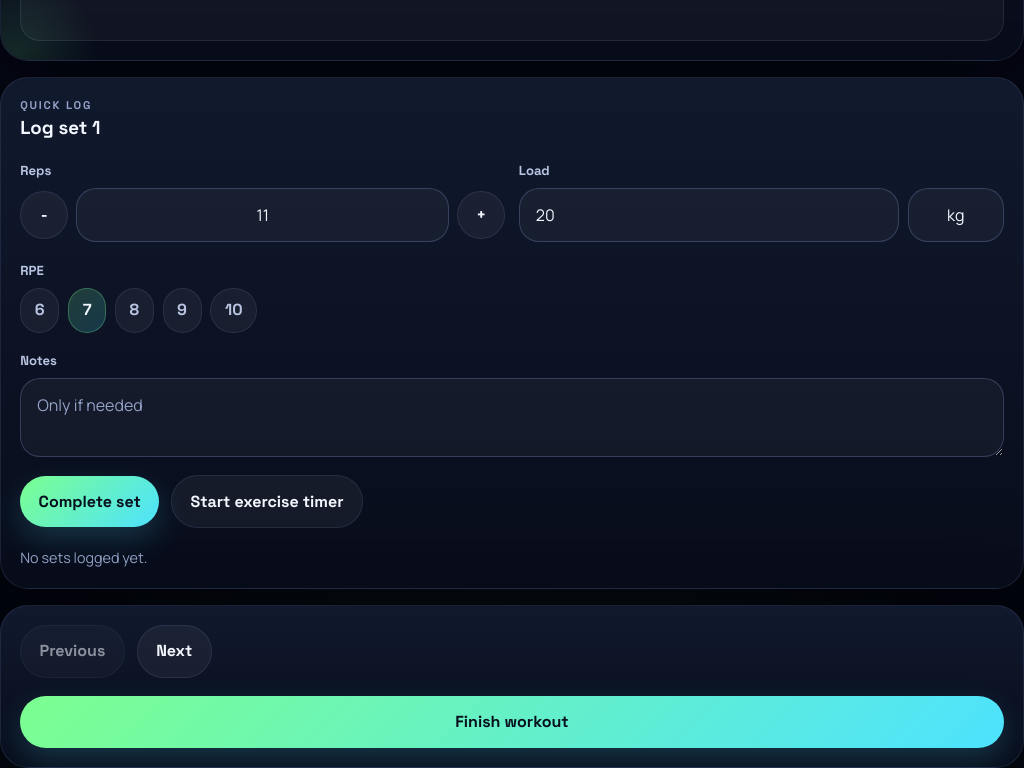
Test: session runner page › shows an error banner when workout completion fails
The width and height of the screenshot is (1024, 768).
(page scrolled)
Click the button "Finish workout" at (512, 722), box [20,696,1004,748]
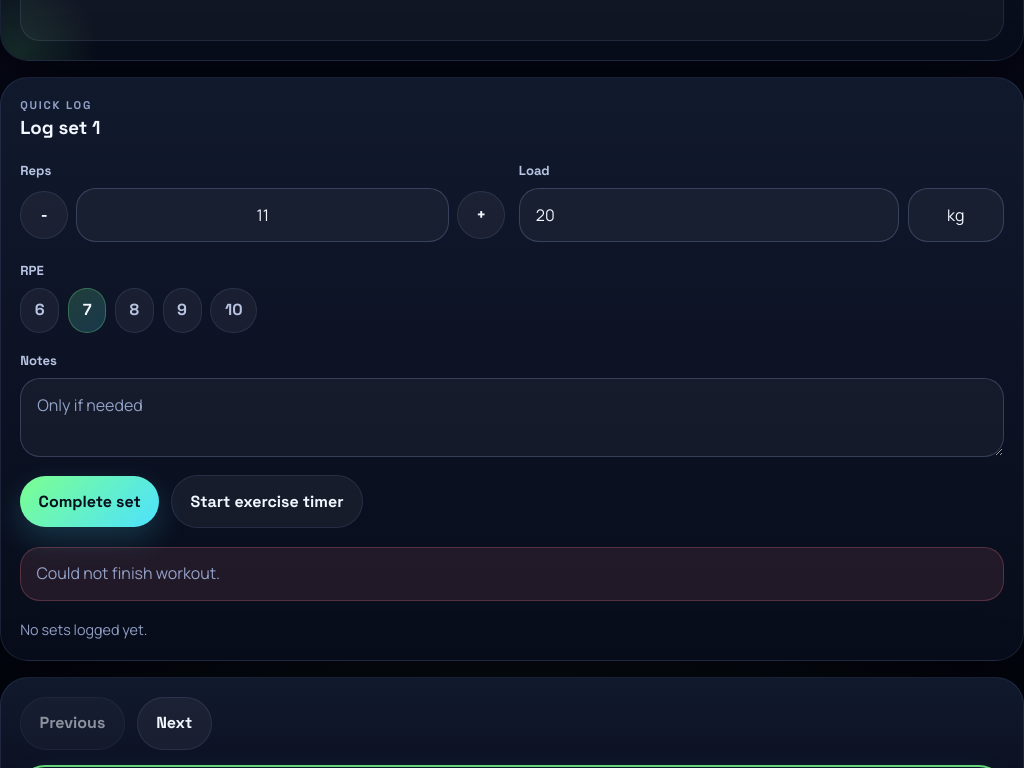
Expected: the text "Could not finish workout." is shown, [20,547,1004,601]
